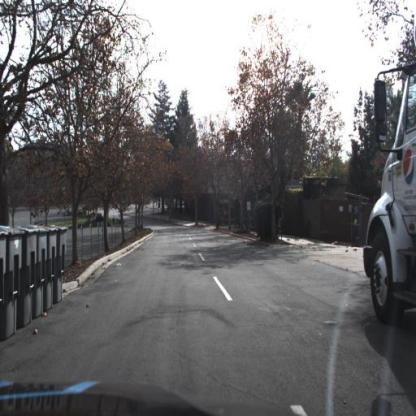truck: (362, 60, 416, 325)
